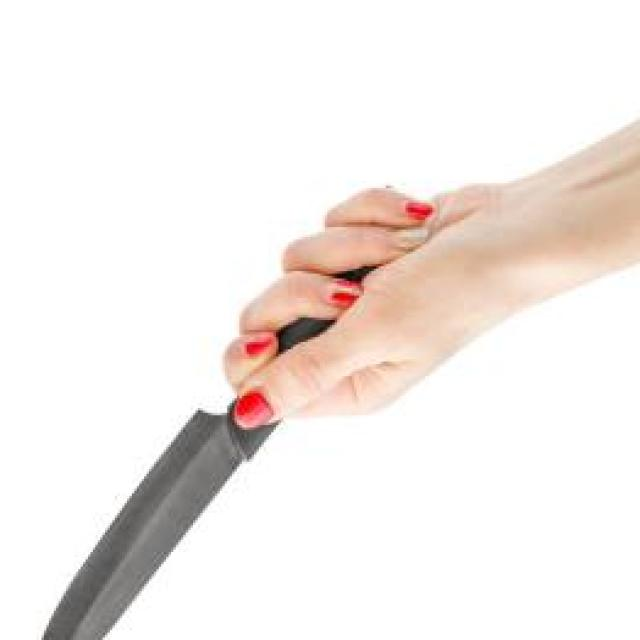knife: (22, 181, 445, 640)
